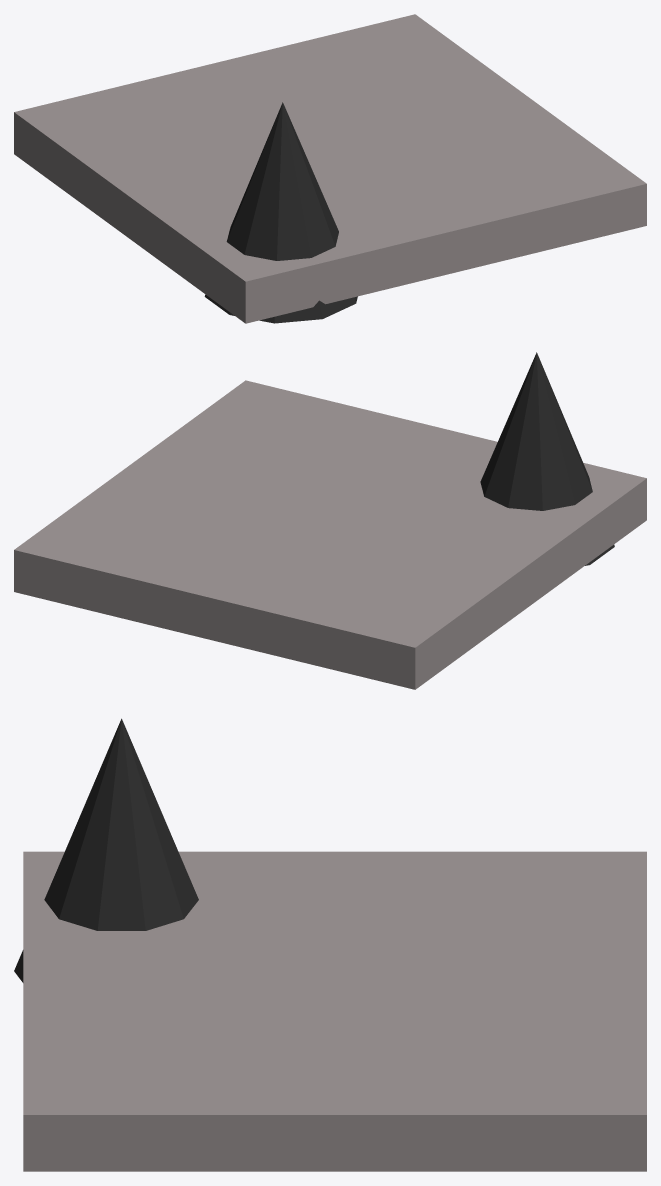
Rendered from Spike.fbx.
3 views of the same model, one above another, from view 1: azimuth 30°, elevation 25°; view 2: azimuth 150°, elevation 25°; view 3: azimuth 270°, elevation 25° (orthographic). The views are drawn at different scales.
Parts seen in each view (by area): view 1: Base, Spike; view 2: Base, Spike; view 3: Base, Spike.
Boxes of the visible parts, bbox=[...] form: Base: bbox=[14, 14, 646, 323]; Spike: bbox=[204, 102, 357, 323]; Base: bbox=[14, 380, 646, 689]; Spike: bbox=[480, 352, 614, 565]; Base: bbox=[23, 851, 646, 1171]; Spike: bbox=[14, 718, 198, 982].
Bounding box in the file's own units: 55.96 × 25.04 × 56.8.
1 material, 1 textured.
